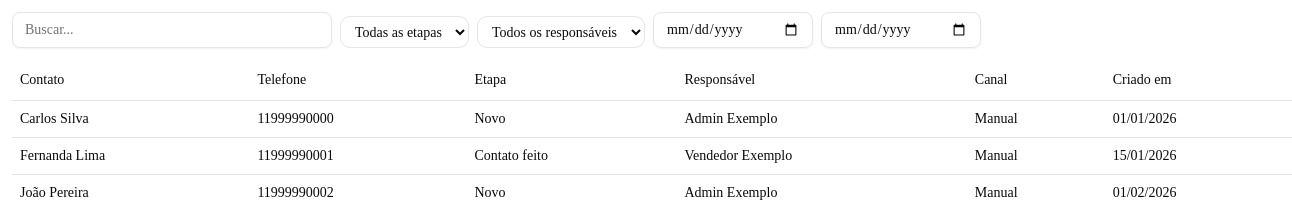
LeadTable › filtro de responsável restringe as linhas exibidas
Select "Vendedor Exemplo" in the dropdown named "Responsável" at (561, 32), box [477,16,645,48]
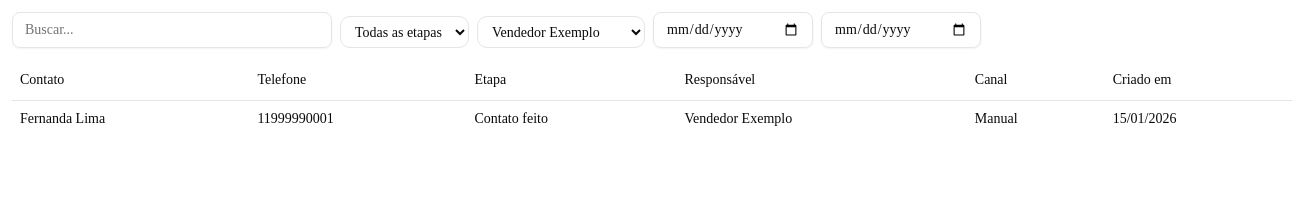
expect the link "Carlos Silva" is gone: met
expect the link "Fernanda Lima" is shown: met, box [20,108,105,128]
expect the link "João Pereira" is gone: met
